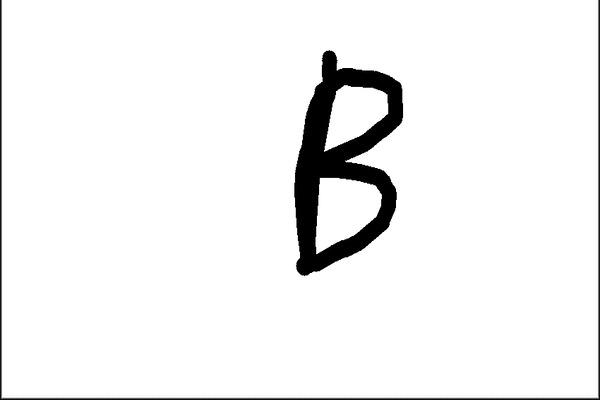B: (285, 43, 411, 281)
